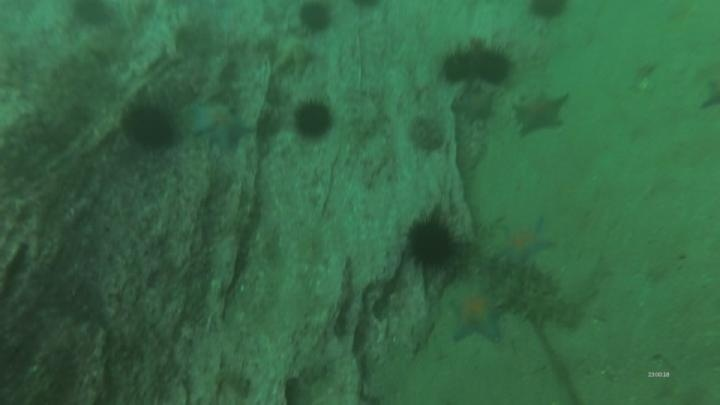echinus: (403, 213, 461, 272), (120, 101, 180, 152), (291, 98, 335, 142), (472, 46, 515, 87), (439, 48, 477, 86), (296, 2, 336, 36), (69, 1, 116, 29), (525, 0, 571, 24)
holothurian: (497, 278, 584, 330)
starfish: (442, 282, 507, 346), (490, 215, 557, 268), (187, 99, 252, 152), (510, 88, 572, 139), (272, 32, 319, 78), (454, 86, 498, 125), (696, 77, 720, 113)
